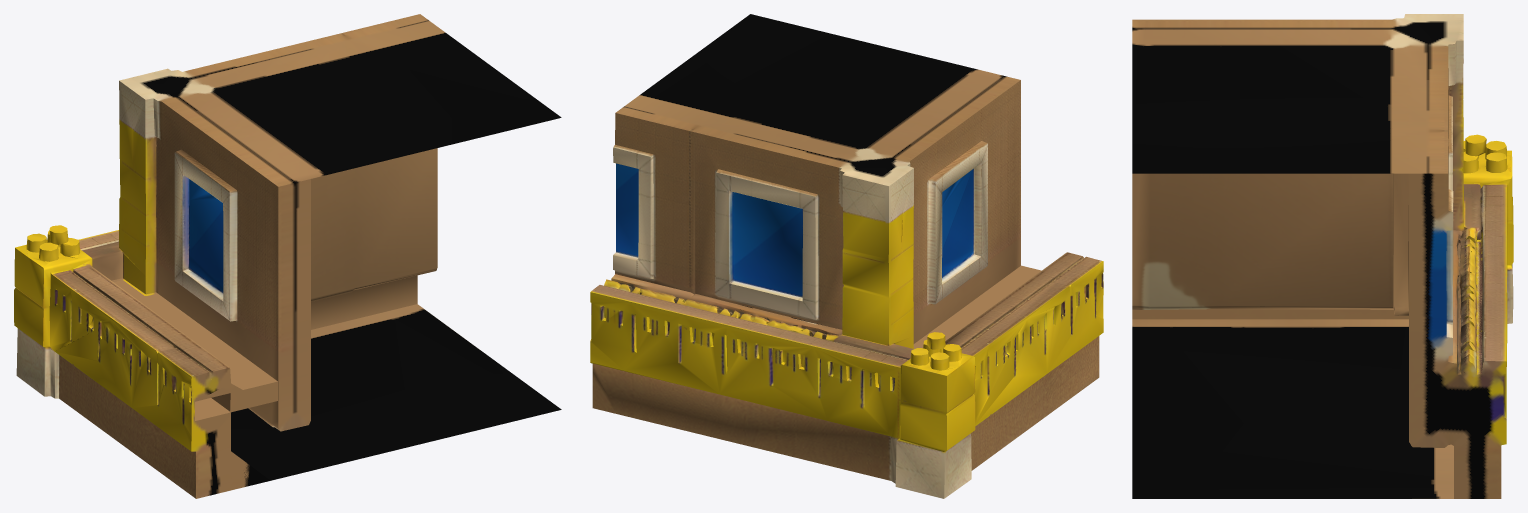
The model's file is 7-upper-walls-back-left.fbx.
The picture shows the model from 3 angles, left to right: view 1: azimuth 30°, elevation 25°; view 2: azimuth 150°, elevation 25°; view 3: azimuth 270°, elevation 25°; orthographic projection. The views are drawn at different scales.
Visible parts, largest first — view 1: upper-walls-back-left; view 2: upper-walls-back-left; view 3: upper-walls-back-left.
Part boxes in pixels (x1,y1,x2,y2): upper-walls-back-left: (14, 14, 561, 498); upper-walls-back-left: (590, 14, 1103, 498); upper-walls-back-left: (1132, 14, 1513, 498).
Size of the model in its own units: 6513 by 4817 by 5119.
Materials: 1 (1 with a texture image).
